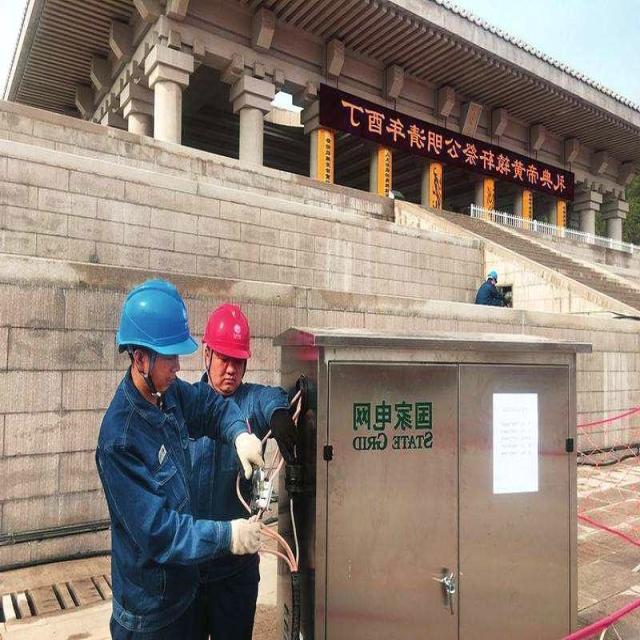face_nomask: (144, 347, 181, 399), (206, 353, 244, 395)
hand_glove: (225, 513, 260, 573), (230, 430, 270, 478)
head_helmet: (109, 274, 198, 357), (199, 303, 253, 368)
person: (97, 272, 205, 640), (179, 290, 267, 640)
